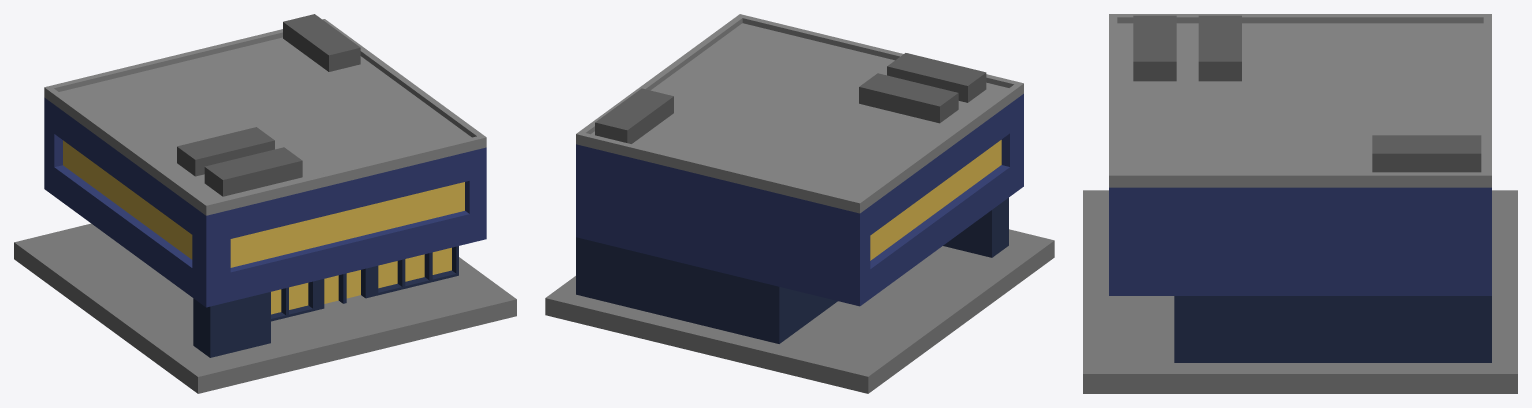
The model's file is ShopTier2.fbx.
3 renders of one model, left to right at view 1: azimuth 30°, elevation 25°; view 2: azimuth 150°, elevation 25°; view 3: azimuth 270°, elevation 25°, orthographic. The views are drawn at different scales.
Visible parts, largest first — view 1: Cube.030; view 2: Cube.030; view 3: Cube.030.
Part boxes in pixels (bbox=[...]): Cube.030: bbox=[14, 14, 516, 393]; Cube.030: bbox=[545, 14, 1054, 393]; Cube.030: bbox=[1083, 14, 1517, 393].
Size of the model in its own units: 2000 by 1121 by 2000.
